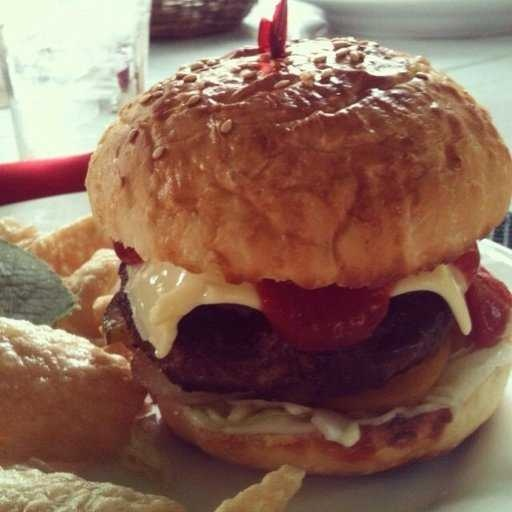hamburger: (111, 30, 489, 477)
